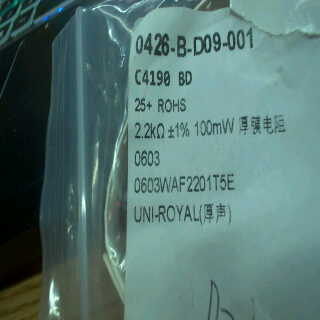2.2kR: (130, 121, 169, 141)
